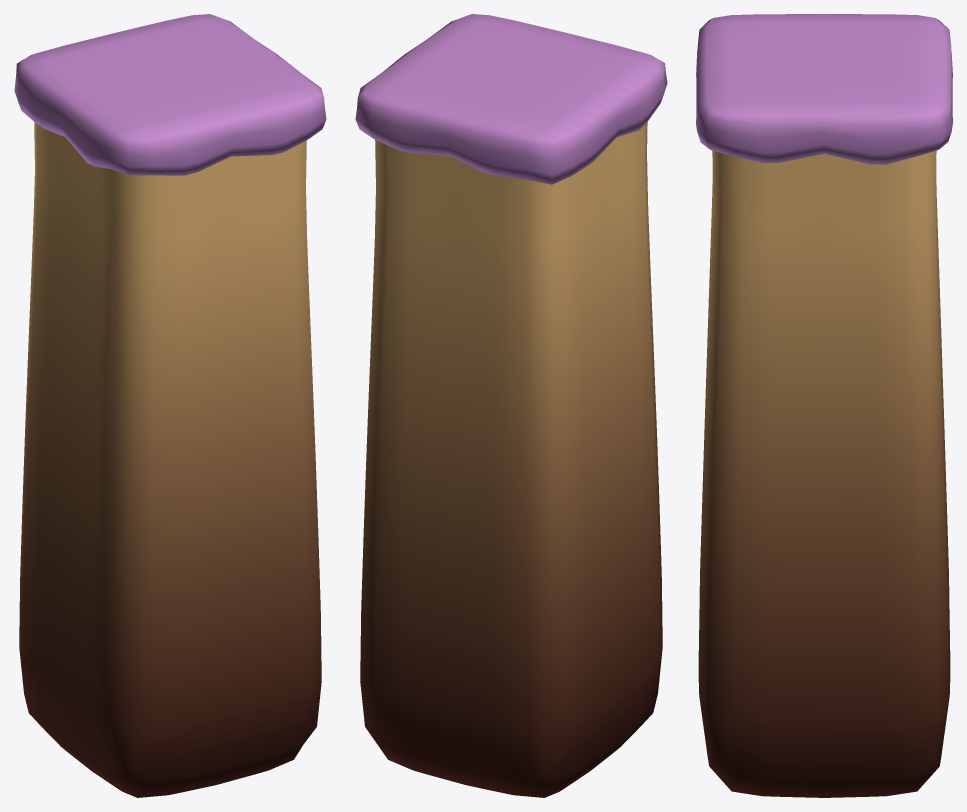
The model's file is TileCandy_6m.fbx.
The picture shows the model from 3 angles, left to right: view 1: azimuth 30°, elevation 25°; view 2: azimuth 150°, elevation 25°; view 3: azimuth 270°, elevation 25°; orthographic projection. The views are drawn at different scales.
Parts seen in each view (by area): view 1: TileCandy_6m; view 2: TileCandy_6m; view 3: TileCandy_6m.
Part boxes in pixels (<box>): TileCandy_6m: <box>14,14,326,797</box>; TileCandy_6m: <box>355,14,667,797</box>; TileCandy_6m: <box>696,14,952,797</box>.
Size of the model in its own units: 2 by 6 by 2.
